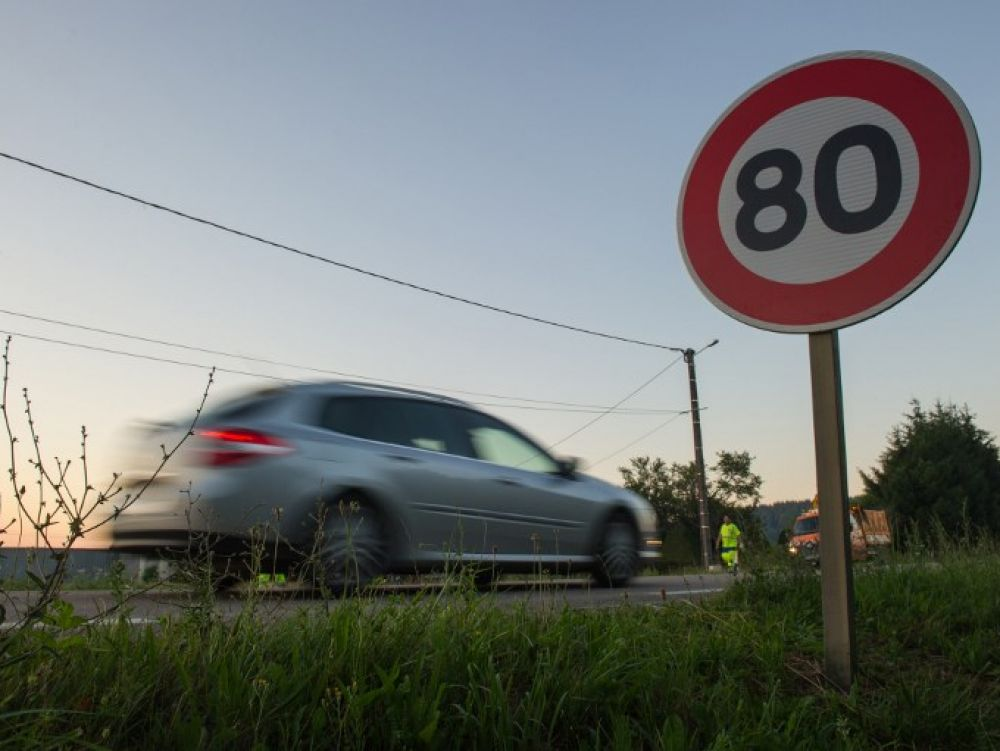Speed_limit_80km: (671, 50, 984, 333)
